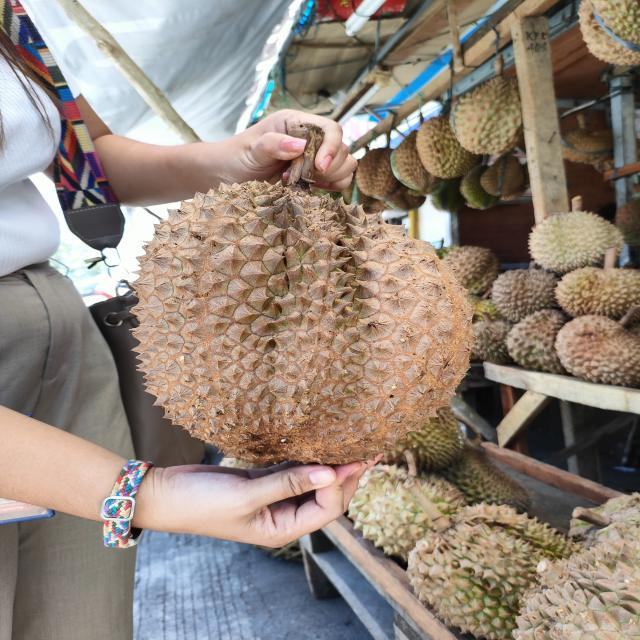mature: (127, 177, 476, 467)
